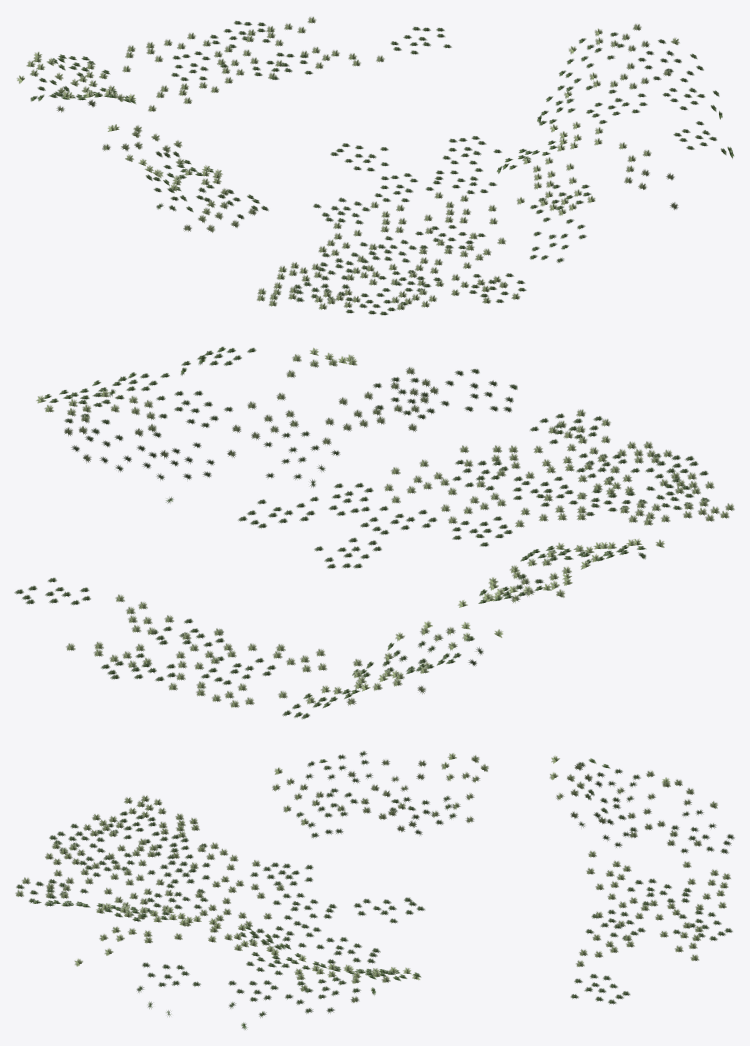
3 views of the same model, one above another, from view 1: azimuth 30°, elevation 25°; view 2: azimuth 150°, elevation 25°; view 3: azimuth 270°, elevation 25° (orthographic). The views are drawn at different scales.
Parts seen in each view (by area): view 1: cespe1_atlas_arboles_0; view 2: cespe1_atlas_arboles_0; view 3: cespe1_atlas_arboles_0.
Boxes of the visible parts, x1,y1,x2,y2 form: cespe1_atlas_arboles_0: (16, 16, 734, 315); cespe1_atlas_arboles_0: (14, 346, 734, 719); cespe1_atlas_arboles_0: (15, 751, 734, 1029).
Bounding box in the file's own units: 151 × 18.8 × 171.
Materials: 1 (1 with a texture image).
